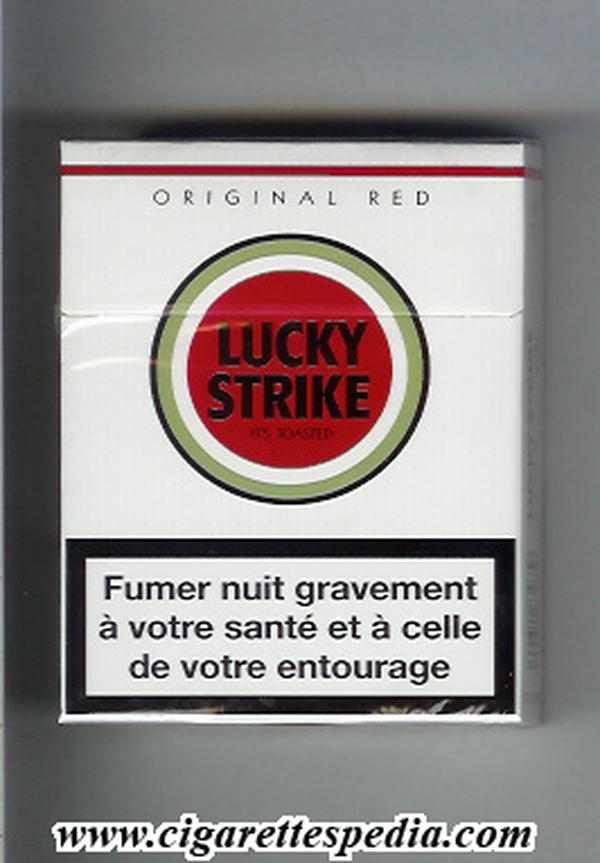lucky_strike_red: (62, 145, 522, 726)
